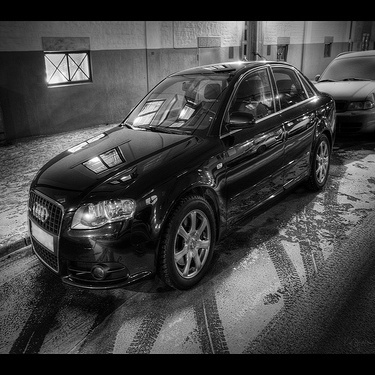car: (21, 47, 340, 298), (298, 35, 375, 125)
